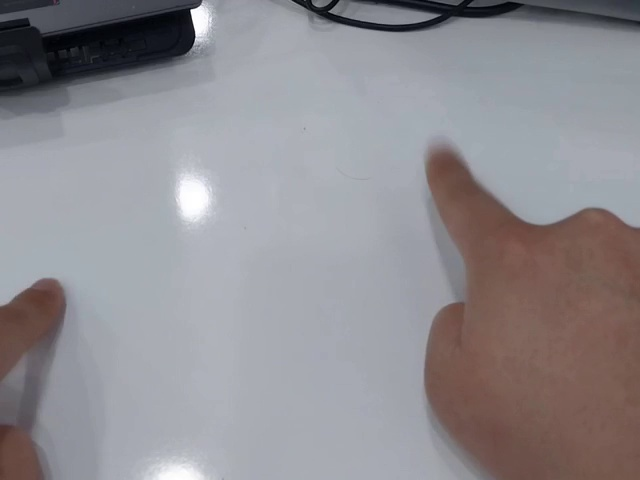fingers: (9, 276, 66, 335), (423, 142, 473, 185)
